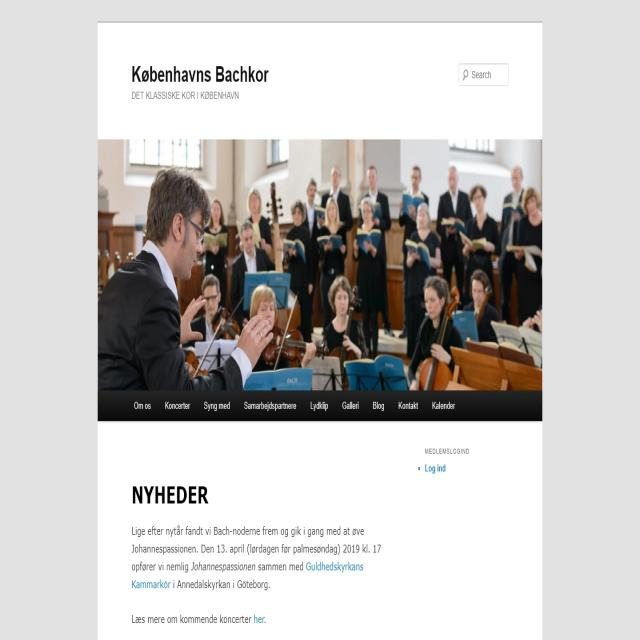button: (238, 392, 297, 419), (127, 391, 159, 420), (198, 392, 230, 421), (162, 389, 192, 418), (428, 395, 459, 423), (393, 391, 421, 420), (304, 394, 332, 421), (338, 391, 364, 420), (369, 392, 388, 422), (458, 61, 469, 89)
field: (459, 62, 508, 87)
heading: (129, 58, 269, 88), (130, 483, 214, 512)
image: (98, 137, 544, 420)
label: (470, 64, 492, 82)
link: (305, 558, 363, 575), (131, 576, 172, 593), (422, 459, 449, 477), (252, 610, 268, 628)
text: (129, 524, 383, 592), (126, 608, 270, 636), (129, 88, 244, 109), (422, 444, 471, 457)
